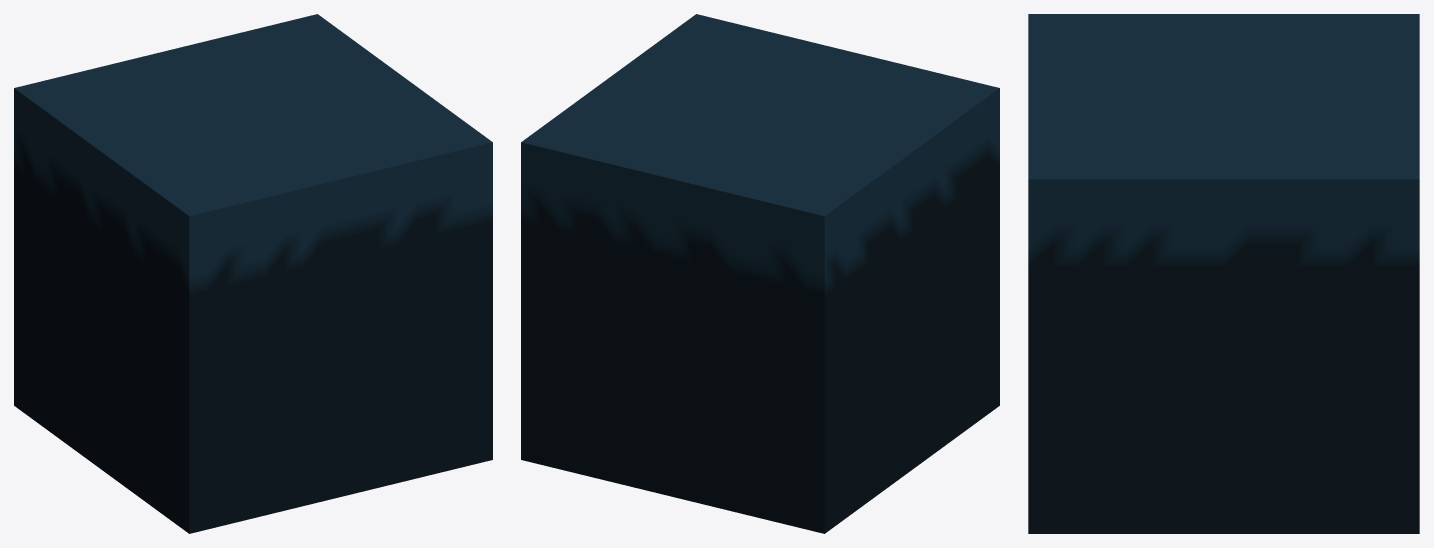
File: grass_block.glb
3 renders of one model, left to right at view 1: azimuth 30°, elevation 25°; view 2: azimuth 150°, elevation 25°; view 3: azimuth 270°, elevation 25°, orthographic. The views are drawn at different scales.
Visible parts, largest first — view 1: grass_block; view 2: grass_block; view 3: grass_block.
Boxes of the visible parts, <box> form: grass_block: <box>14,14,492,533</box>; grass_block: <box>521,14,999,533</box>; grass_block: <box>1028,14,1419,533</box>.
Size of the model in its own units: 1.6 by 1.6 by 1.6.
